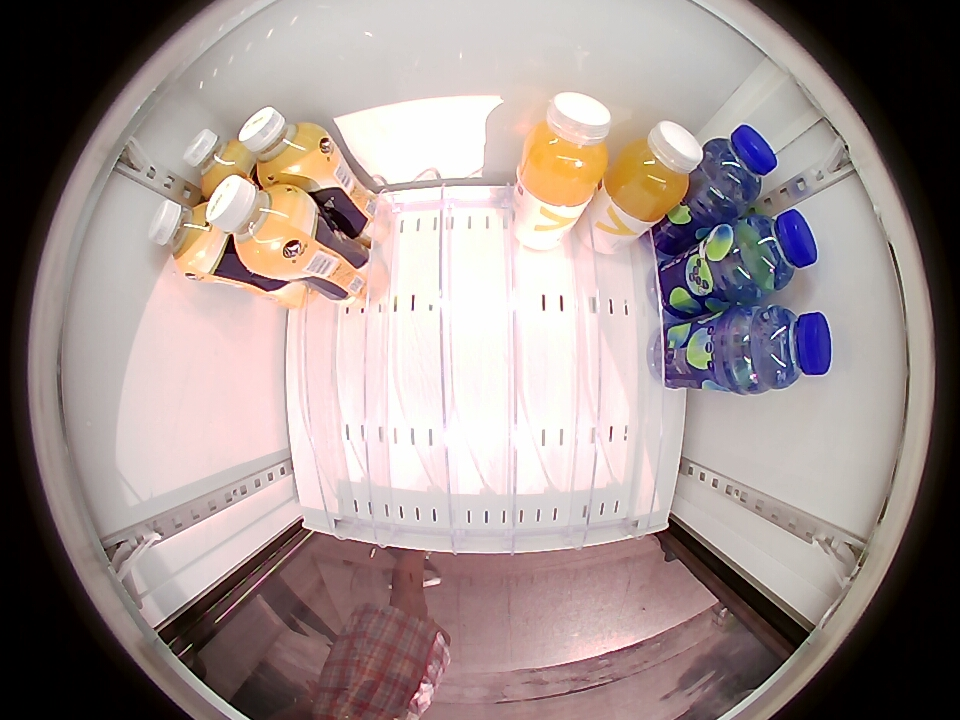asamu: (204, 175, 308, 269), (239, 106, 327, 182), (149, 199, 223, 276), (183, 130, 251, 193)
maidong: (723, 306, 833, 393), (721, 209, 818, 300), (697, 125, 778, 213)
weic: (517, 92, 613, 205), (605, 121, 704, 222)
